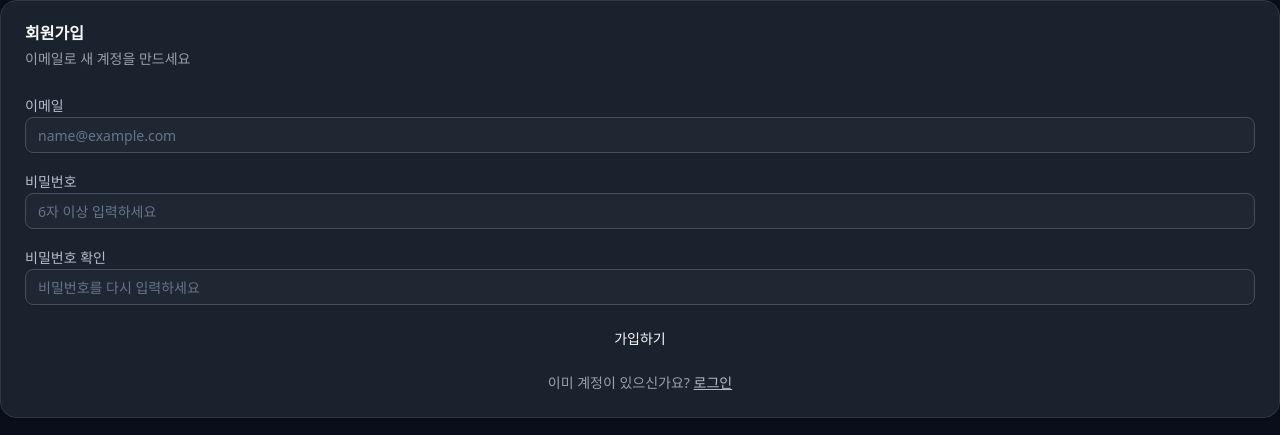
it: SignupForm › 가입 성공 시 이메일 인증 안내 메시지를 표시한다
Type "test@example.com" into the field labelled "이메일" at (640, 135), box [25,117,1255,153]
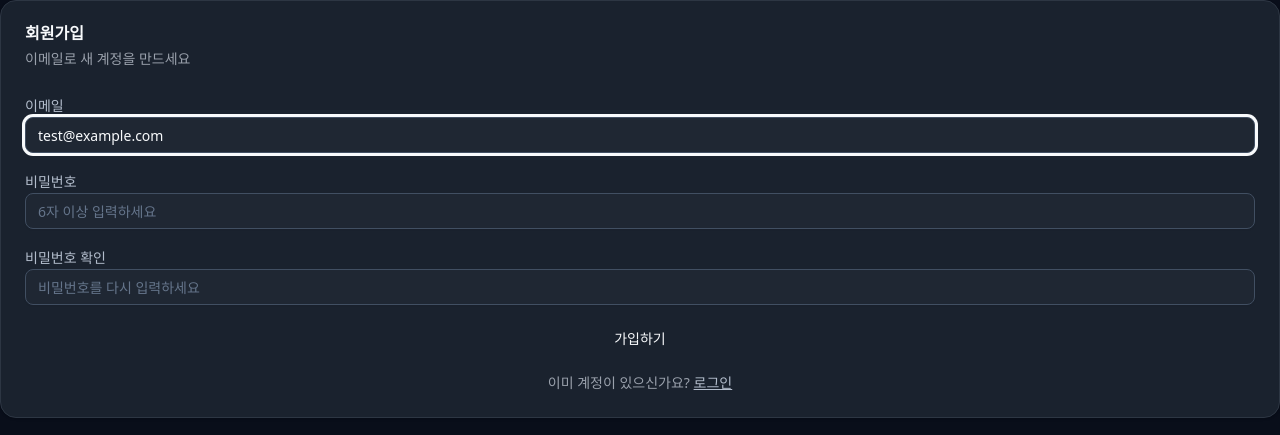
Type "password123" into the password field labelled "비밀번호" at (640, 211), box [25,193,1255,229]
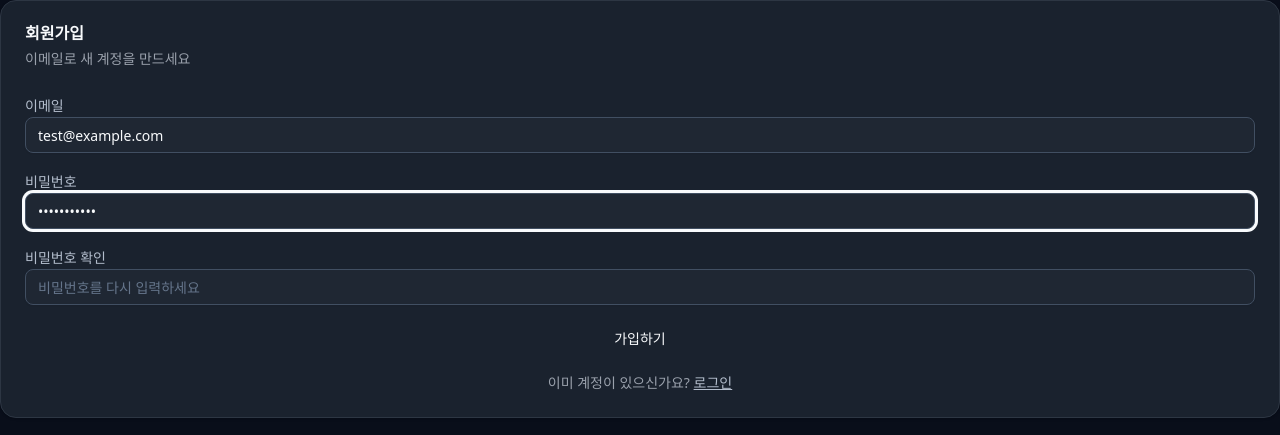
Type "password123" into the password field labelled "비밀번호 확인" at (640, 287), box [25,269,1255,305]
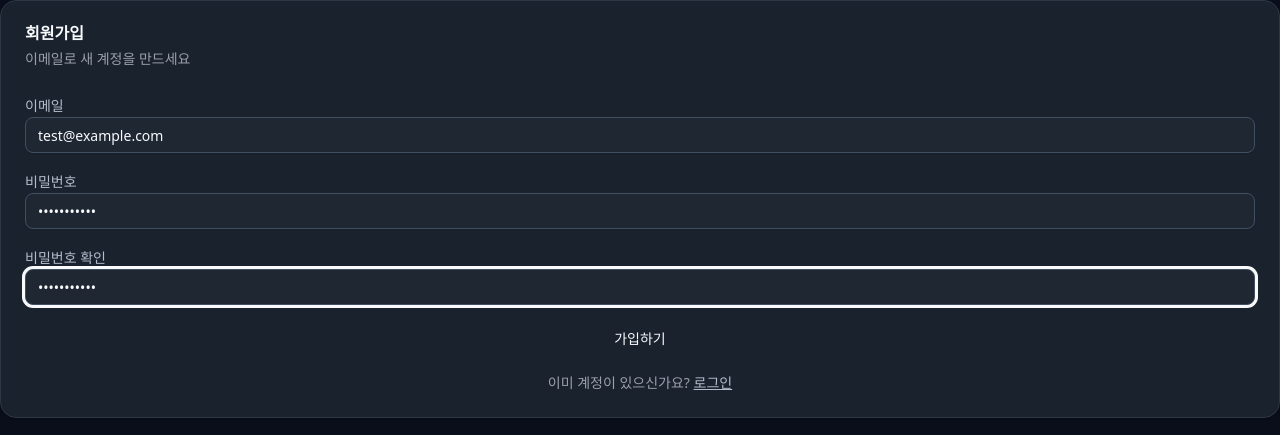
Click the button "가입하기" at (640, 339), box [25,321,1255,357]
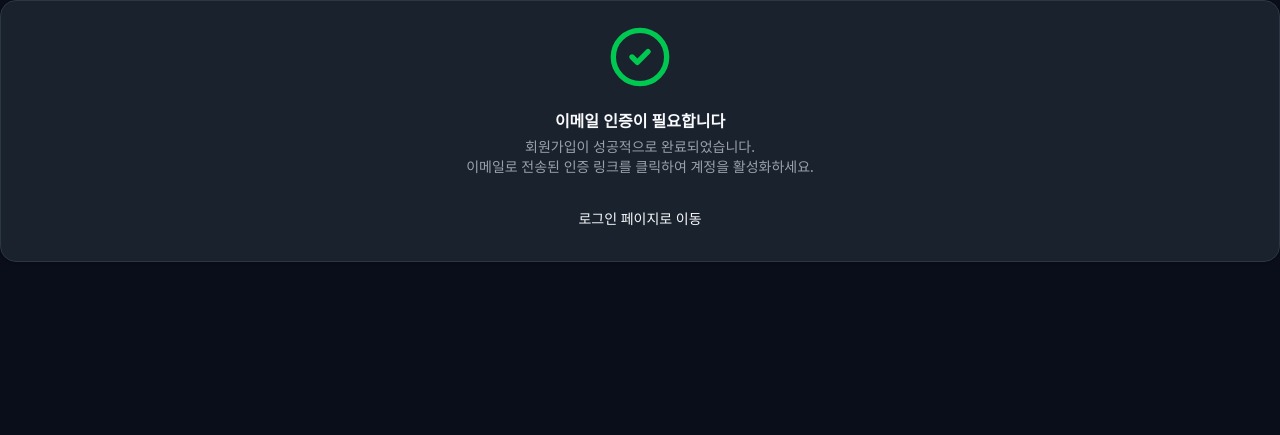
Check: the text "이메일 인증이 필요합니다" is shown, box [555,110,725,132]
Check: the button "로그인 페이지로 이동" is shown, box [25,201,1255,237]
